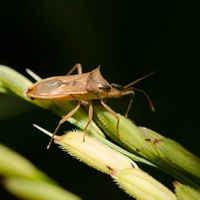insect: (26, 63, 158, 148)
